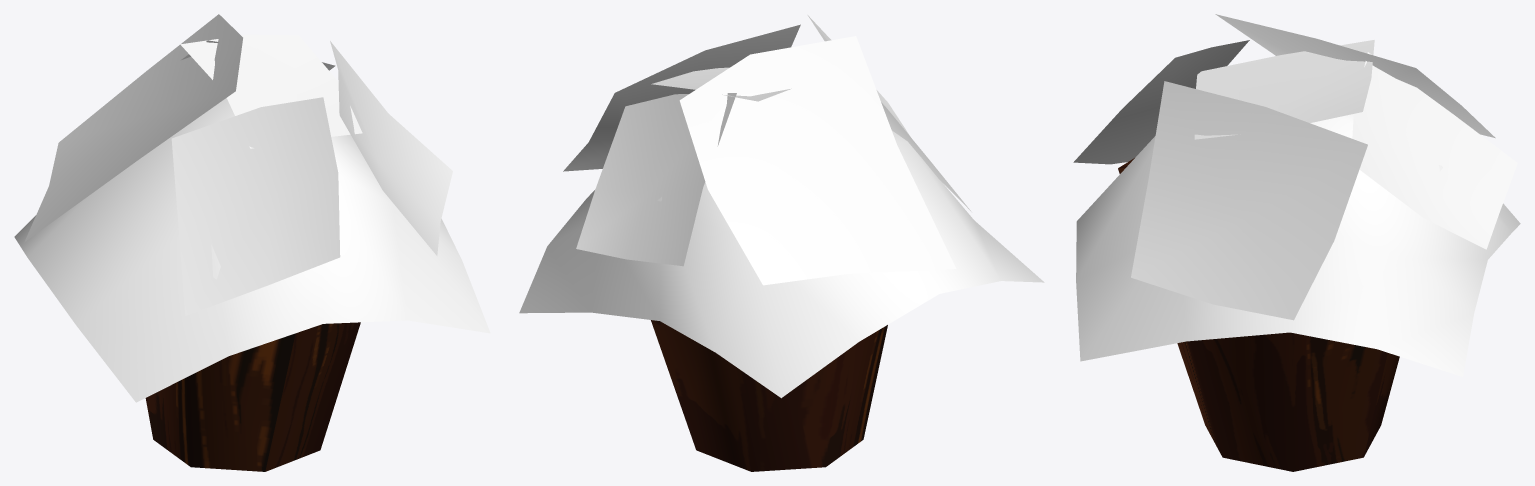
File: SM_PROP_PLANT_pot_v2_01.fbx
3 renders of one model, left to right at view 1: azimuth 30°, elevation 25°; view 2: azimuth 150°, elevation 25°; view 3: azimuth 270°, elevation 25°, orthographic. The views are drawn at different scales.
Visible parts, largest first — view 1: SM_PROP_PLANT_pot_v2_01; view 2: SM_PROP_PLANT_pot_v2_01; view 3: SM_PROP_PLANT_pot_v2_01.
Part boxes in pixels (x1,y1,x2,y2): SM_PROP_PLANT_pot_v2_01: (14,14,490,471); SM_PROP_PLANT_pot_v2_01: (519,15,1044,471); SM_PROP_PLANT_pot_v2_01: (1073,14,1520,471).
Bounding box in the file's own units: 83.46 × 75.09 × 75.65.
